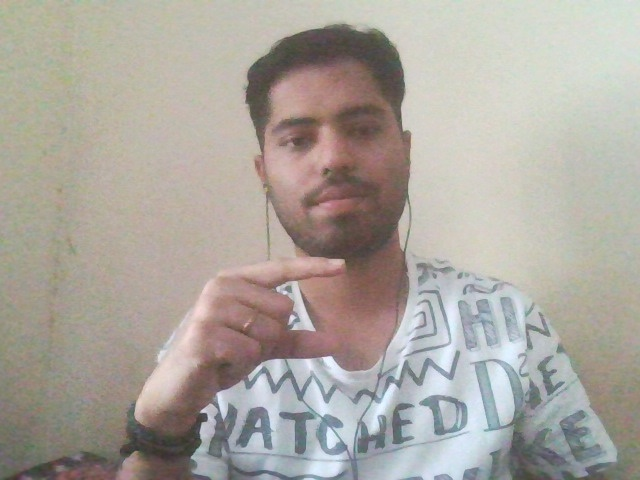No: (150, 250, 373, 420)
